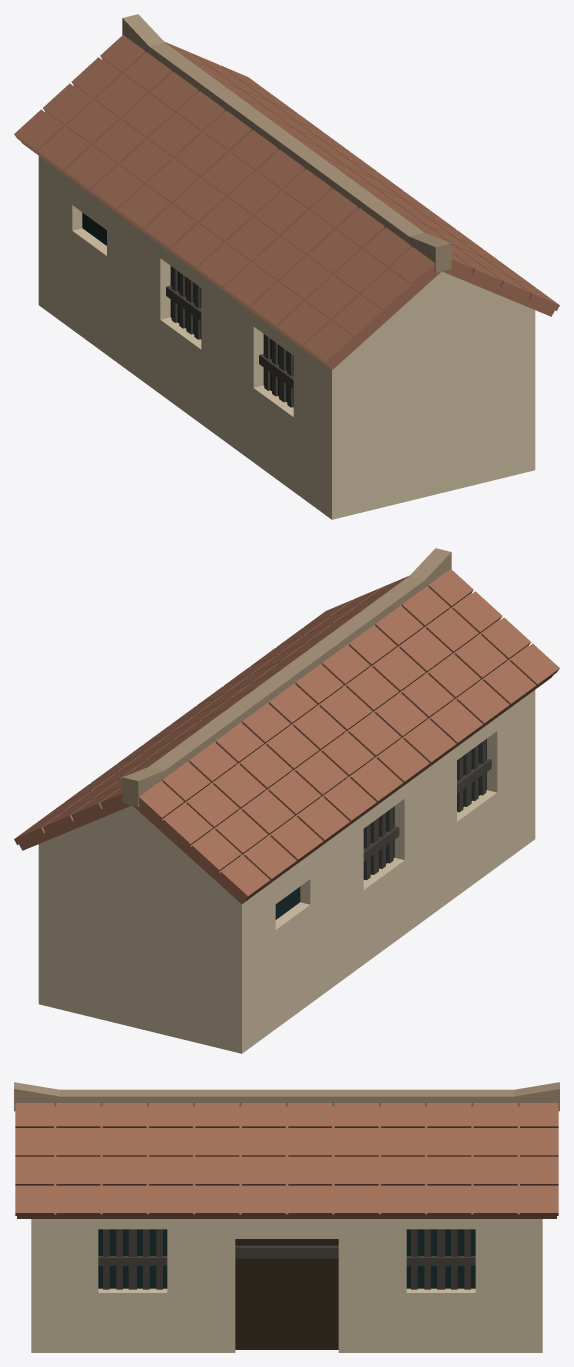
File: Building_mode_L2_Northhouse014.fbx
3 renders of one model, top to bottom at view 1: azimuth 30°, elevation 25°; view 2: azimuth 150°, elevation 25°; view 3: azimuth 270°, elevation 25°, orthographic. The views are drawn at different scales.
Parts seen in each view (by area): view 1: Building_mode_L2_Northhouse014; view 2: Building_mode_L2_Northhouse014; view 3: Building_mode_L2_Northhouse014.
Boxes of the visible parts, <box> form: Building_mode_L2_Northhouse014: <box>14,14,559,519</box>; Building_mode_L2_Northhouse014: <box>14,548,559,1053</box>; Building_mode_L2_Northhouse014: <box>14,1082,559,1352</box>.
Bounding box in the file's own units: 2.79 × 2.93 × 6.47.
